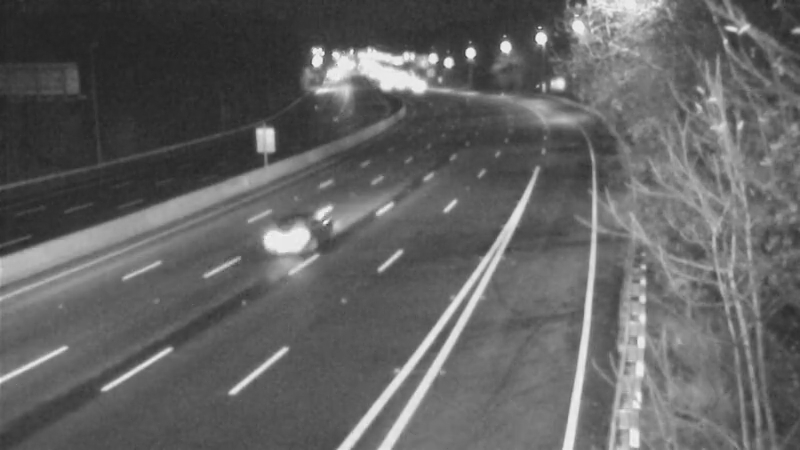vehicle: (260, 207, 340, 287)
